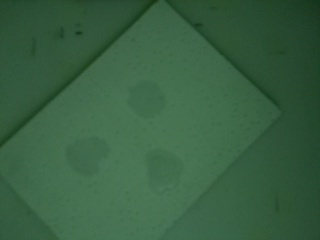Water_detected: (127, 78, 166, 114), (153, 153, 189, 191), (78, 146, 111, 176)
